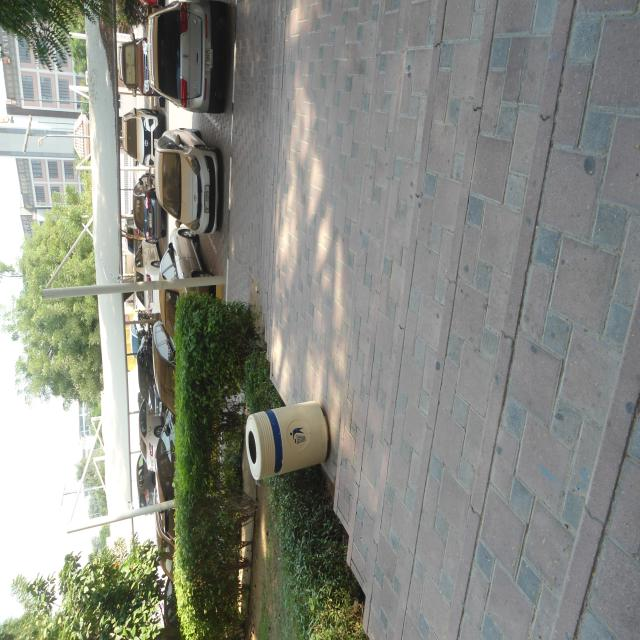bush: (169, 274, 265, 640), (236, 363, 362, 633)
car: (150, 0, 226, 112), (156, 131, 218, 234), (160, 226, 211, 280), (132, 173, 167, 243), (130, 400, 164, 471), (122, 109, 165, 163), (137, 330, 156, 409), (120, 40, 144, 91), (134, 239, 160, 281), (160, 290, 180, 336), (136, 452, 148, 496), (141, 289, 160, 314), (163, 152, 181, 173), (137, 126, 140, 134)
carShed: (80, 15, 145, 576)
dustbin: (228, 397, 339, 487)
stairs: (355, 3, 640, 640)
tree-chair-bench-table-wall: (11, 293, 367, 640), (5, 194, 111, 409), (0, 0, 147, 74), (2, 635, 4, 636)
